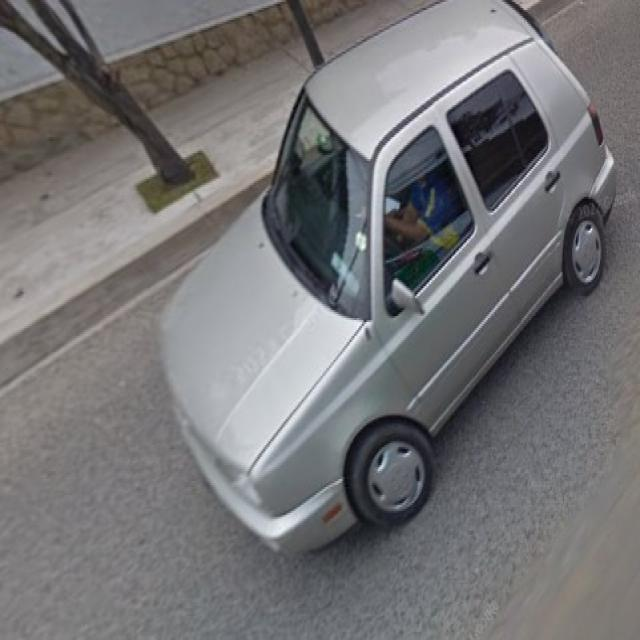Car: (158, 12, 618, 580)
